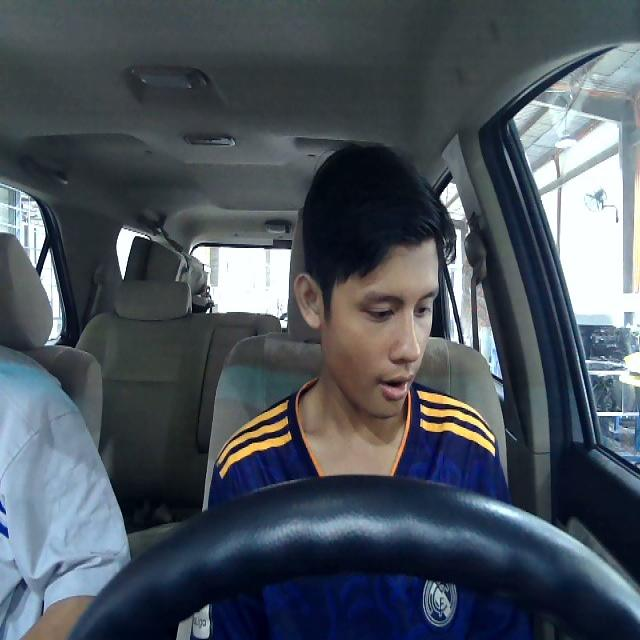yarning: (292, 234, 439, 418)
